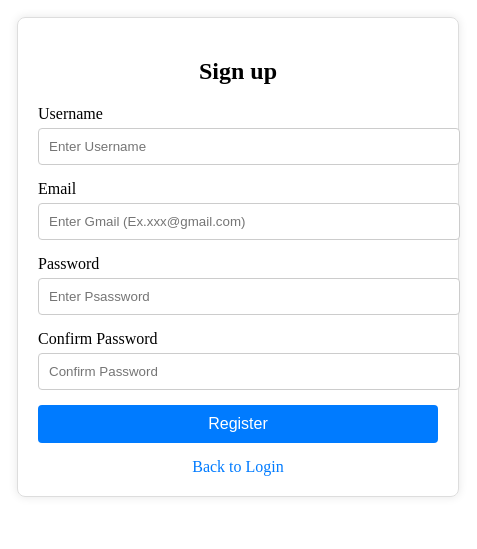
Register Component - Tests › shows error for password without uppercase letter
In the password field labelled "Password": [249, 296] box [38,278,460,315], type "lowercasepassword"
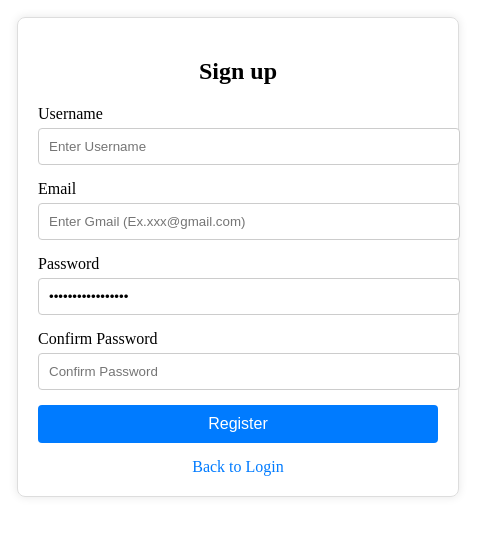
Leave the password field labelled "Password", box [38,278,460,315]
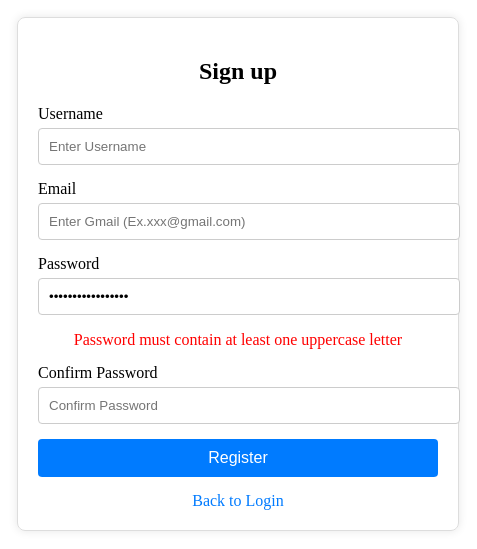
Check: the text "Password must contain at least one uppercase letter" is shown, box [74,331,402,348]
